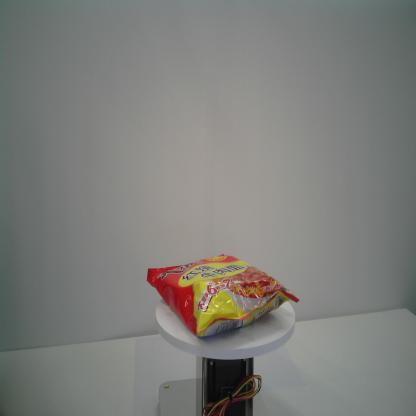Instant Noodles: (146, 253, 300, 339)
